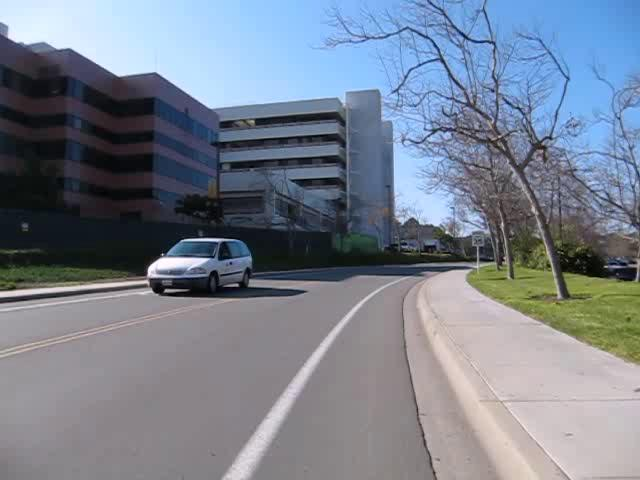speedLimit35: (470, 229, 484, 247)
